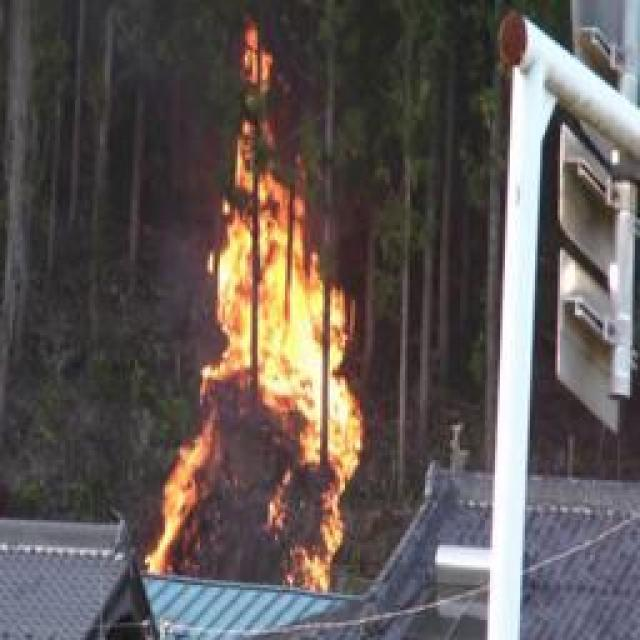Fire: (154, 125, 350, 594)
